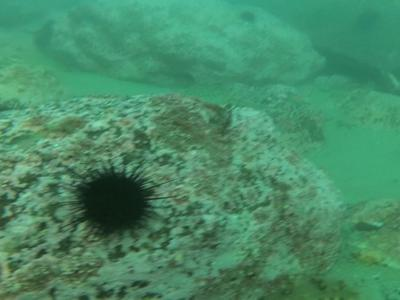urchin: (56, 158, 158, 242)
